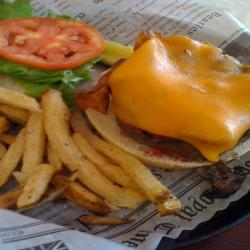burger: (82, 24, 250, 177)
fries: (5, 91, 168, 226)
salad: (1, 2, 108, 98)
